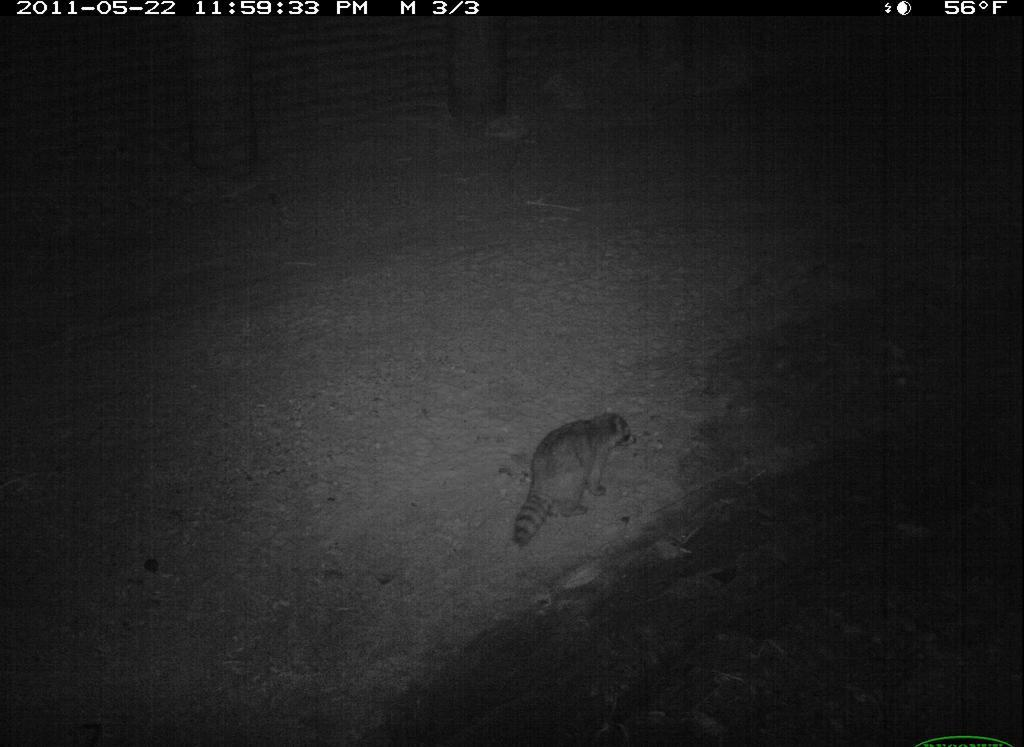raccoon: (504, 408, 641, 555)
